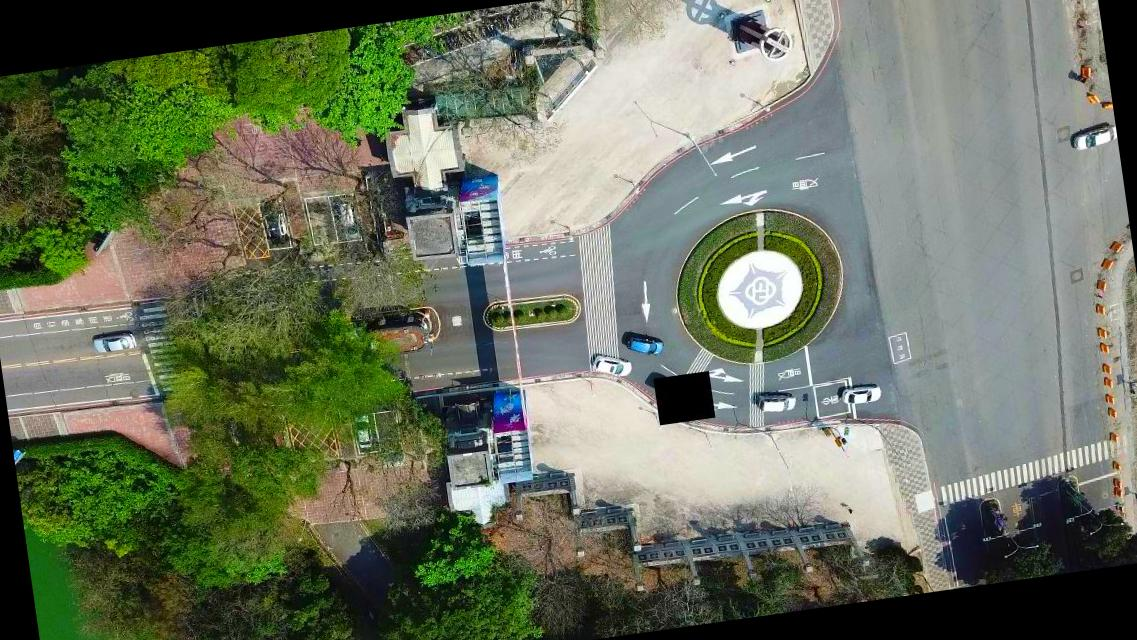vehicle: (333, 194, 362, 246), (1070, 122, 1117, 153), (261, 200, 289, 248), (624, 330, 666, 360), (90, 330, 138, 356), (592, 350, 632, 381), (840, 382, 884, 408), (757, 389, 799, 416), (351, 412, 374, 452)
